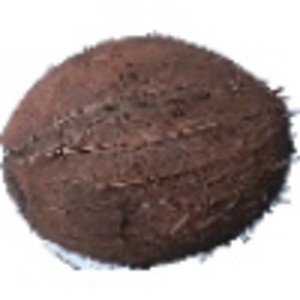coco: (1, 36, 300, 272)
